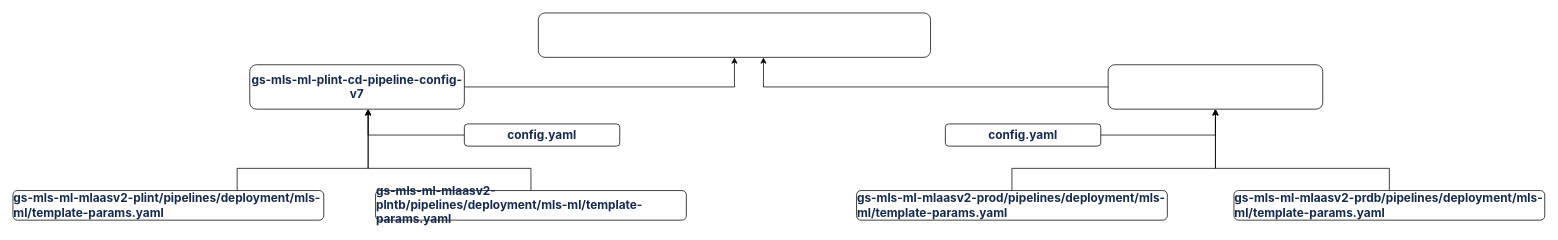
This 1558x240 diagram has some shape labels left out. The centre of each missing label's shape, as x and y in pixels:
"gs-mls-ml-prod-cd-pipeline-config-v7" goes at point (1215, 86).
"w-019-mlaasv2/pipelines/deployment/mls-ml/deployment-pipeline-template.j2" goes at point (734, 34).
